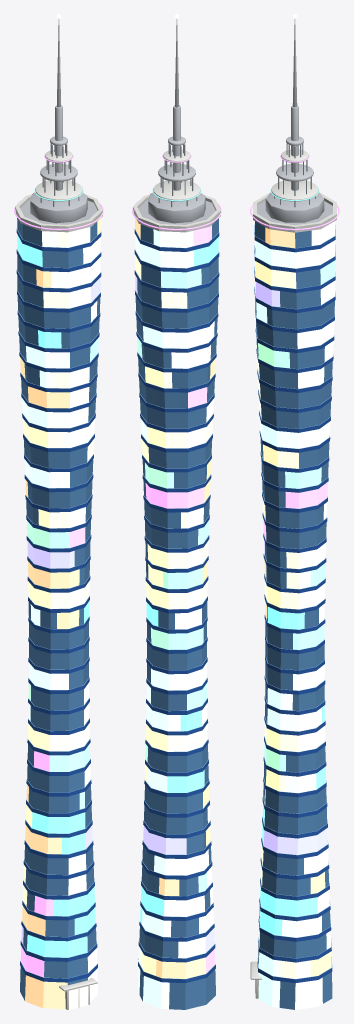
The model's file is arranha_ceu_cintura_agulha.glb.
The picture shows the model from 3 angles, left to right: view 1: azimuth 30°, elevation 25°; view 2: azimuth 210°, elevation 25°; view 3: azimuth 270°, elevation 25°; orthographic projection.
Visible parts, largest first — view 1: arranha_ceu_cintura_agulha; view 2: arranha_ceu_cintura_agulha; view 3: arranha_ceu_cintura_agulha.
Boxes of the visible parts, box(x1,y1,x2,y2) form: arranha_ceu_cintura_agulha: box(14, 14, 103, 1009); arranha_ceu_cintura_agulha: box(132, 14, 221, 1009); arranha_ceu_cintura_agulha: box(250, 14, 339, 1009).
Size of the model in its own units: 12.8 by 154 by 12.8.
12 materials, 1 textured.
